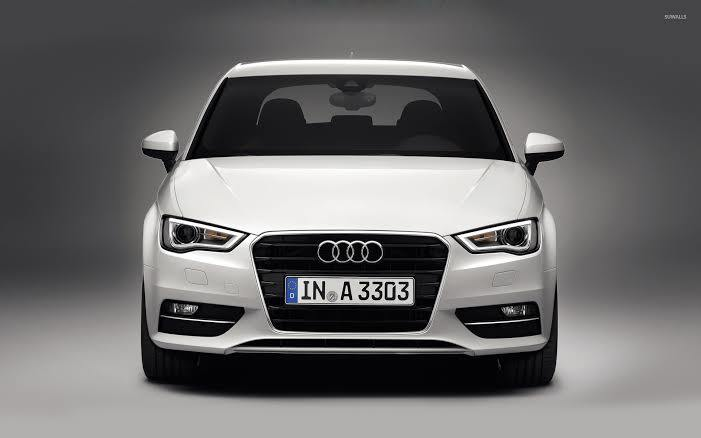audi: (123, 43, 569, 403)
